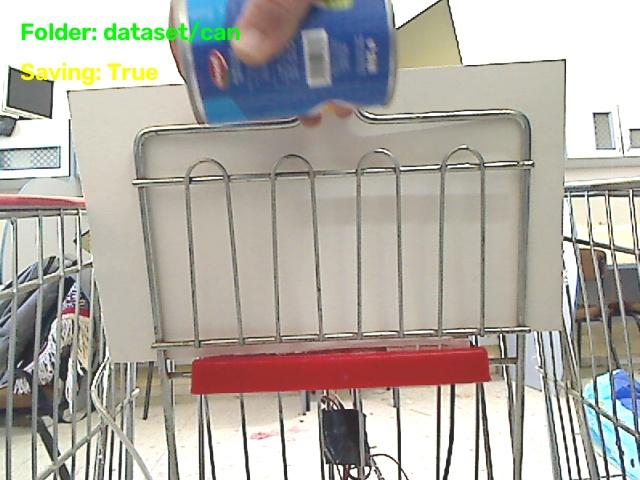can: (172, 0, 396, 123)
